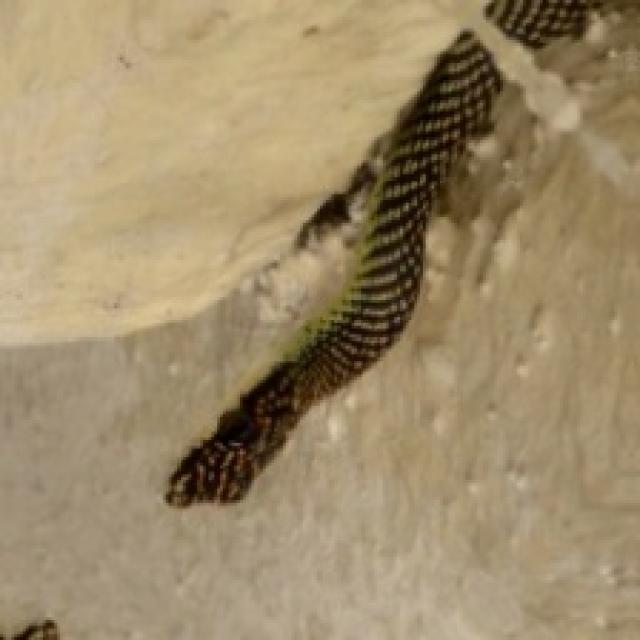paradise tree snake: (166, 31, 503, 503)
